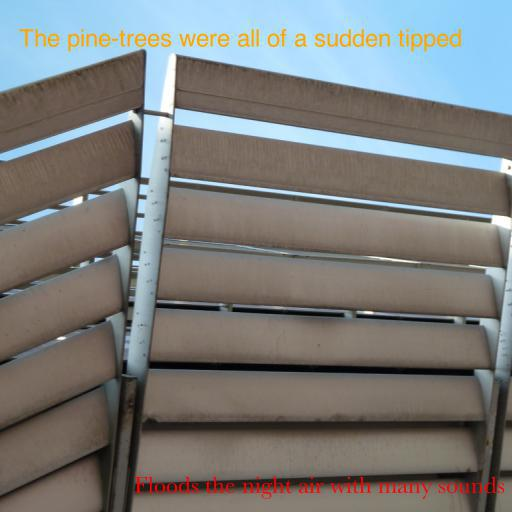Baskerville: (133, 476, 505, 499)
SignPainter: (18, 29, 462, 52)
